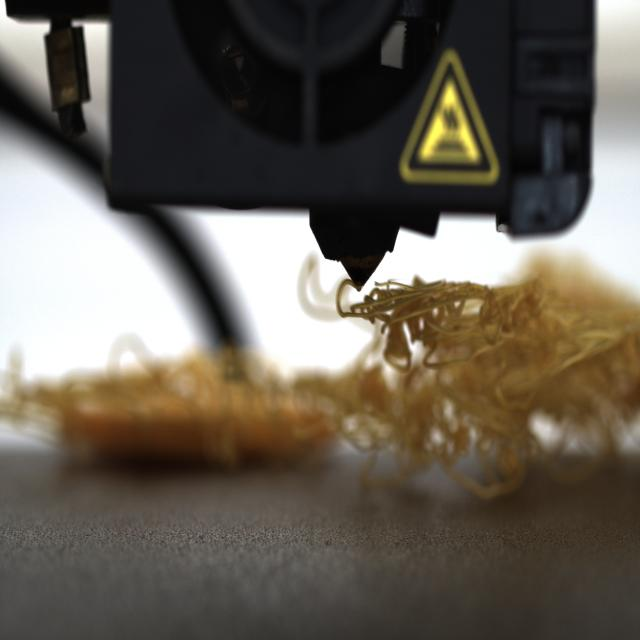Without deffect: (7, 193, 614, 528)
